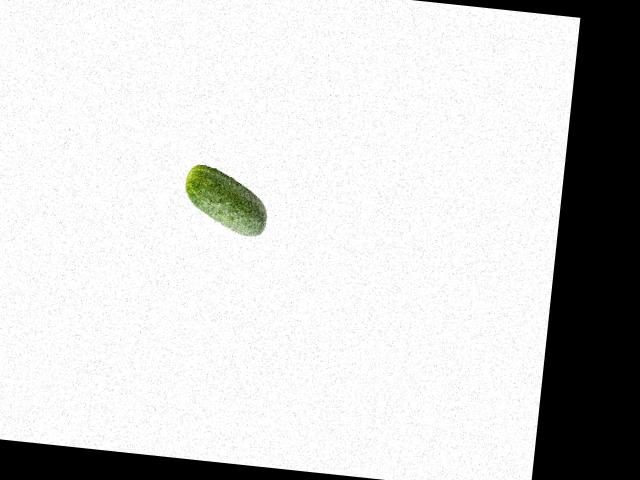cucumber: (181, 164, 272, 238)
